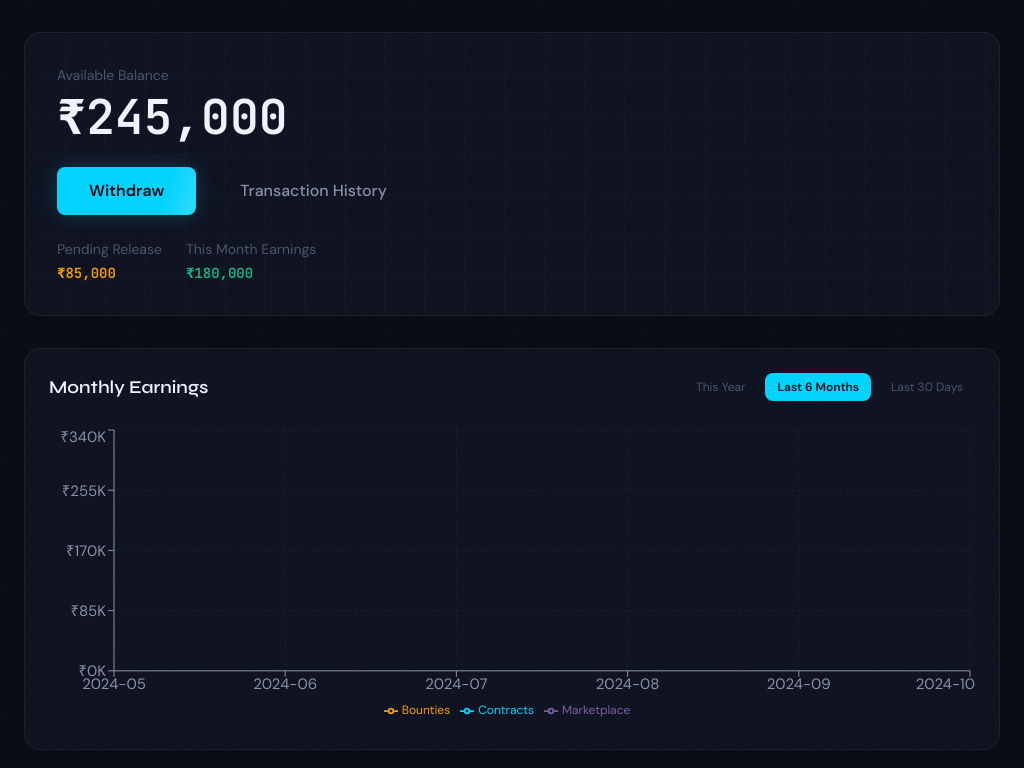
Scenario: Module 7: Payments, Analytics & Settings › Engineer Wallet › opens withdrawal modal when withdraw button is clicked
Click the button with test id "withdraw-btn": (127, 191) x1=57 y1=167 x2=196 y2=215
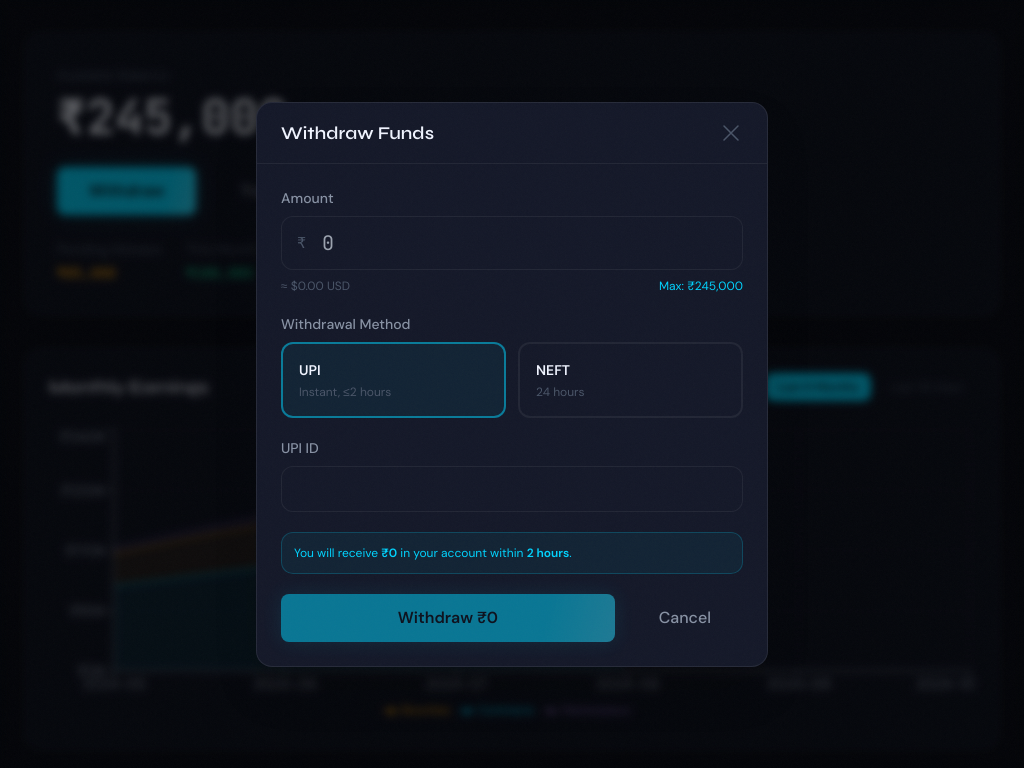
Expected: the heading "Withdraw Funds" is shown, x1=281 y1=118 x2=434 y2=146
